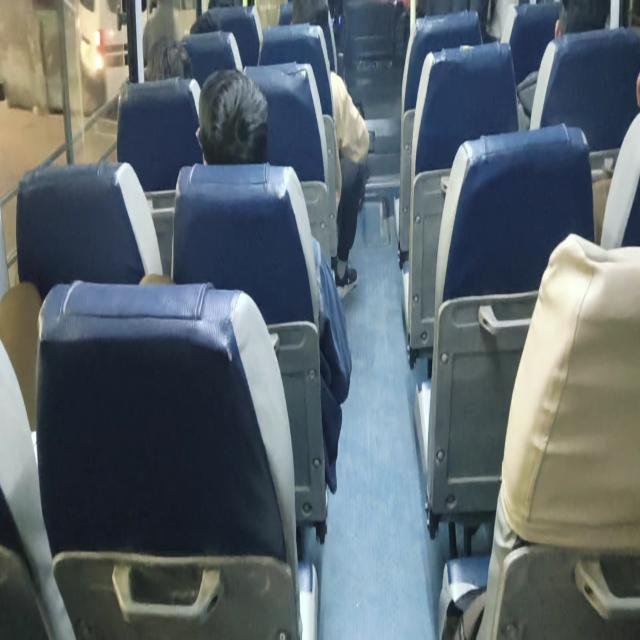person: (196, 68, 352, 493), (287, 2, 370, 300), (329, 70, 370, 300), (196, 68, 269, 164), (144, 35, 193, 81)
